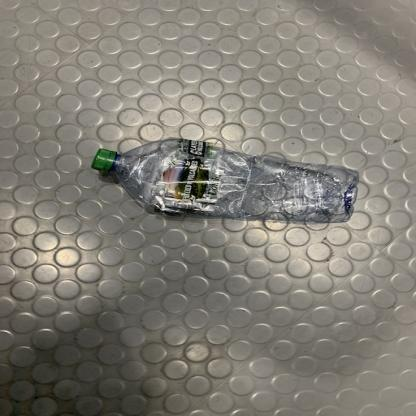trash: (91, 137, 360, 225)
